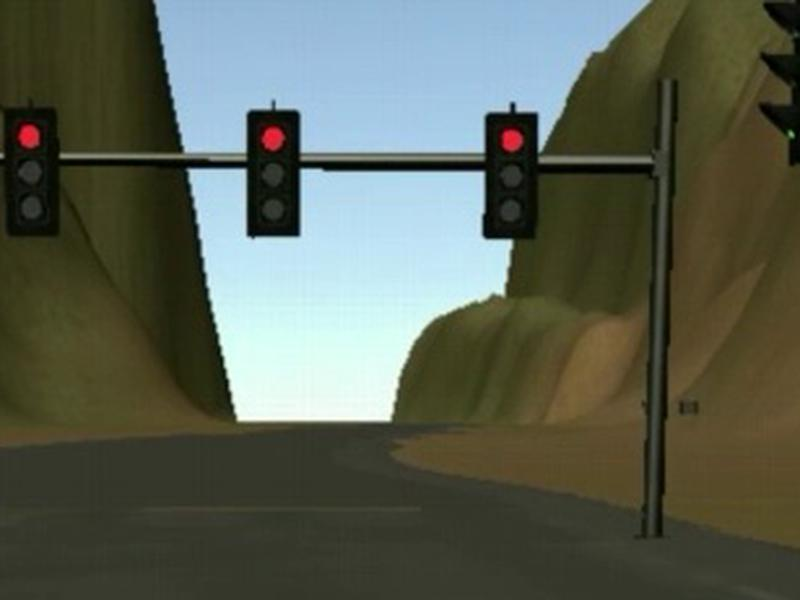Red: (3, 107, 60, 237), (246, 109, 300, 236), (483, 112, 537, 238)
